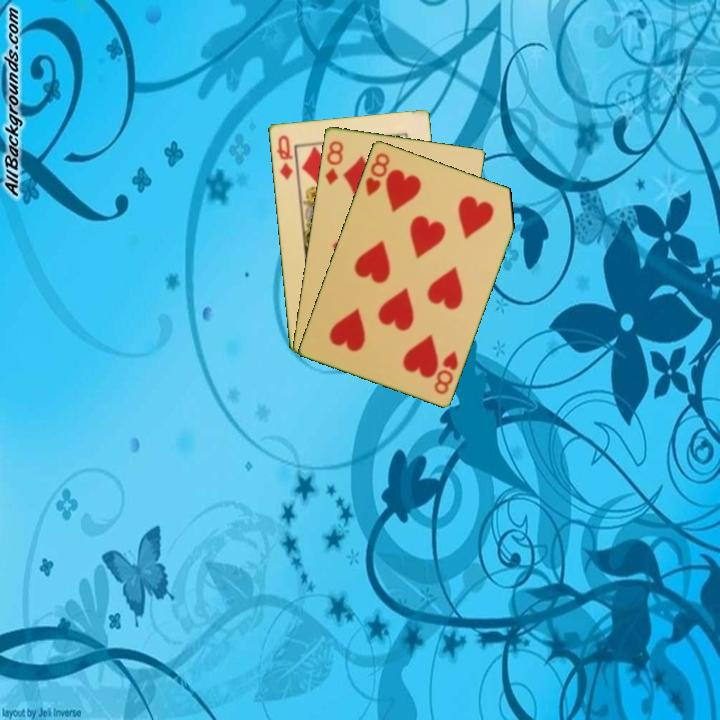8d: (321, 137, 346, 187)
8h: (361, 149, 393, 199), (430, 346, 461, 397)
Qd: (273, 131, 295, 182)
